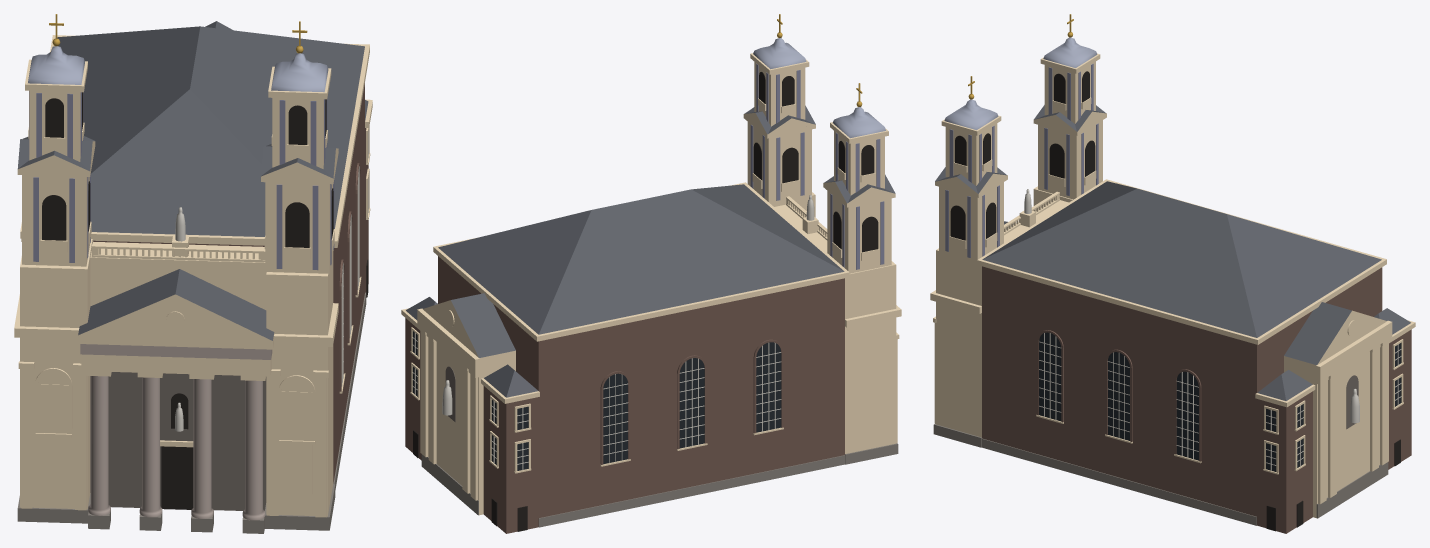
Rendered from mozes-en-aaronkerk.glb.
3 views of the same model, side by side, from view 1: azimuth 30°, elevation 25°; view 2: azimuth 150°, elevation 25°; view 3: azimuth 270°, elevation 25° (orthographic). The views are drawn at different scales.
Parts seen in each view (by area): view 1: mozes-en-aaronkerk; view 2: mozes-en-aaronkerk; view 3: mozes-en-aaronkerk.
Boxes of the visible parts, x1,y1,x2,y2 form: mozes-en-aaronkerk: (14, 14, 372, 533); mozes-en-aaronkerk: (401, 14, 901, 533); mozes-en-aaronkerk: (930, 14, 1415, 533).
Bounding box in the file's own units: 44.21 × 40.3 × 49.7.
